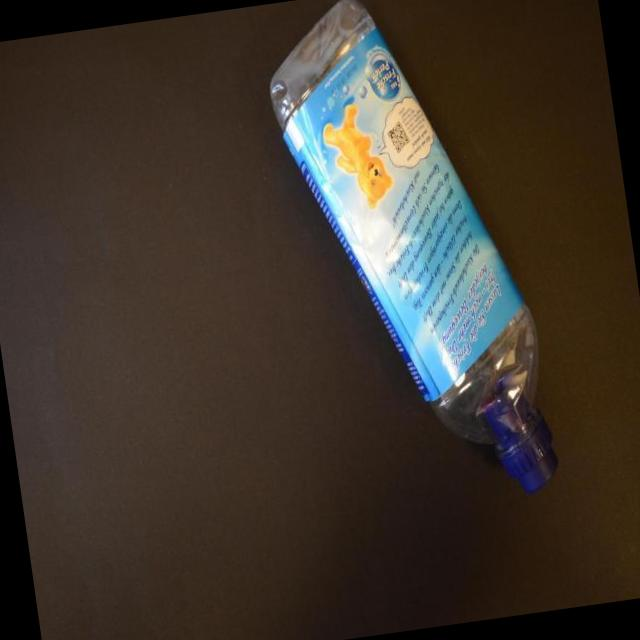plastic_bottle: (258, 0, 563, 521)
